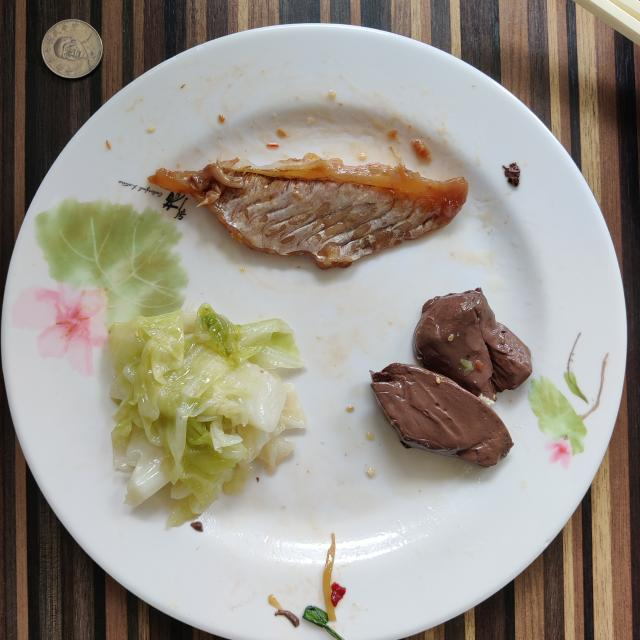Kabayaki sea bream fillet: (149, 154, 469, 269)
cabbage: (109, 305, 305, 526)
coin: (41, 20, 102, 79)
pig blood curd: (371, 289, 532, 466)
